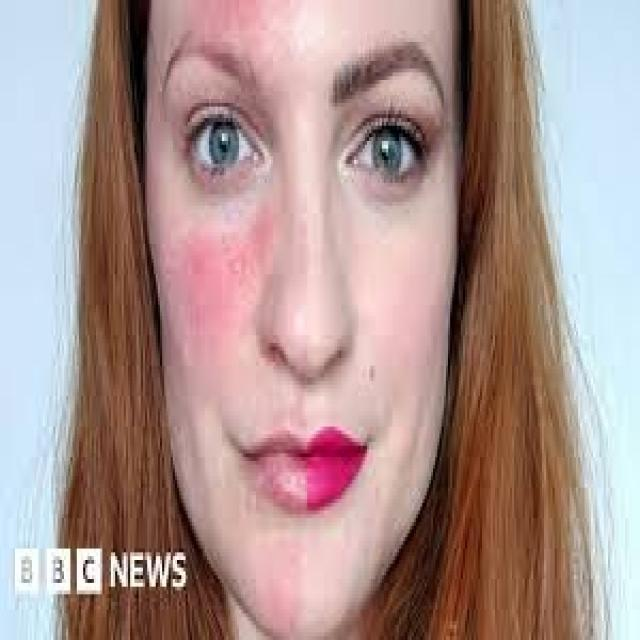Rosacea: (146, 192, 274, 365), (177, 0, 272, 64)
